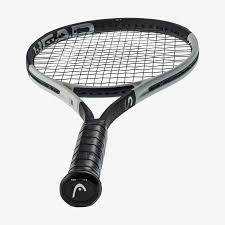tennis racket: (23, 16, 201, 208)
